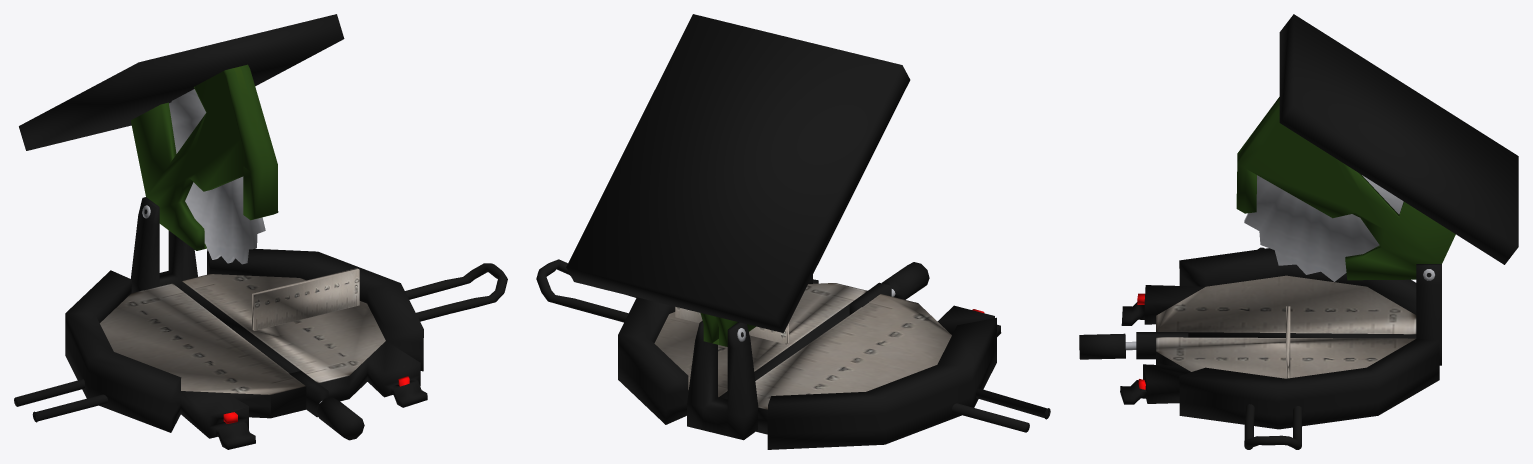
File: kesici 2 yeni.fbx
The picture shows the model from 3 angles, left to right: view 1: azimuth 30°, elevation 25°; view 2: azimuth 150°, elevation 25°; view 3: azimuth 270°, elevation 25°; orthographic projection. The views are drawn at different scales.
Parts seen in each view (by area): view 1: Icosphere.010; view 2: Icosphere.010; view 3: Icosphere.010.
Boxes of the visible parts, x1=… form: Icosphere.010: x1=14, y1=14, x2=507, y2=449; Icosphere.010: x1=536, y1=14, x2=1050, y2=449; Icosphere.010: x1=1079, y1=14, x2=1518, y2=449.
Size of the model in its own units: 102 by 66.61 by 88.25.
1 material, 1 textured.
